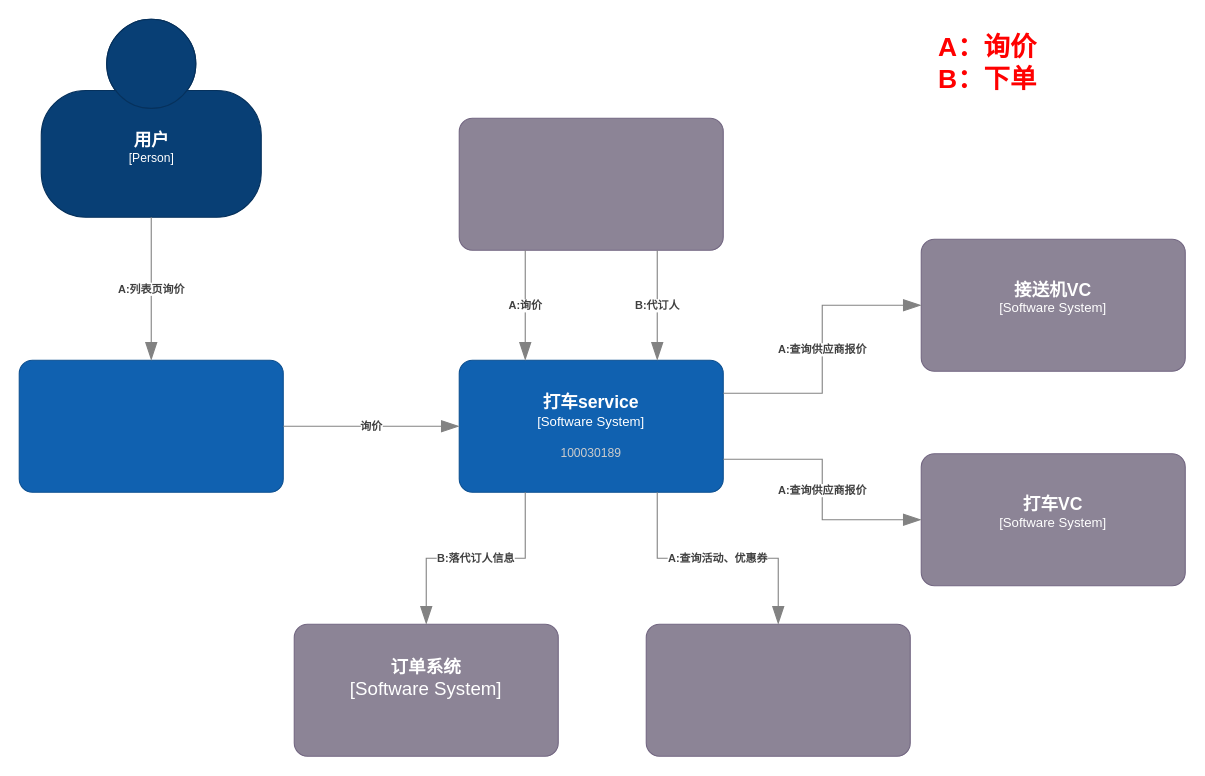
The diagram is 1205 pixels wide and 776 high, and some of its shapes have lost their labels. Here are the shapes that lost their labels. From the top down, the centre of each, then its label:
At [590,183]: "打车分合销 [Software System] 100018022".
At [150,425]: "打车restful [Software System] 100030191".
At [777,689]: "营销系统 [Software System]".
